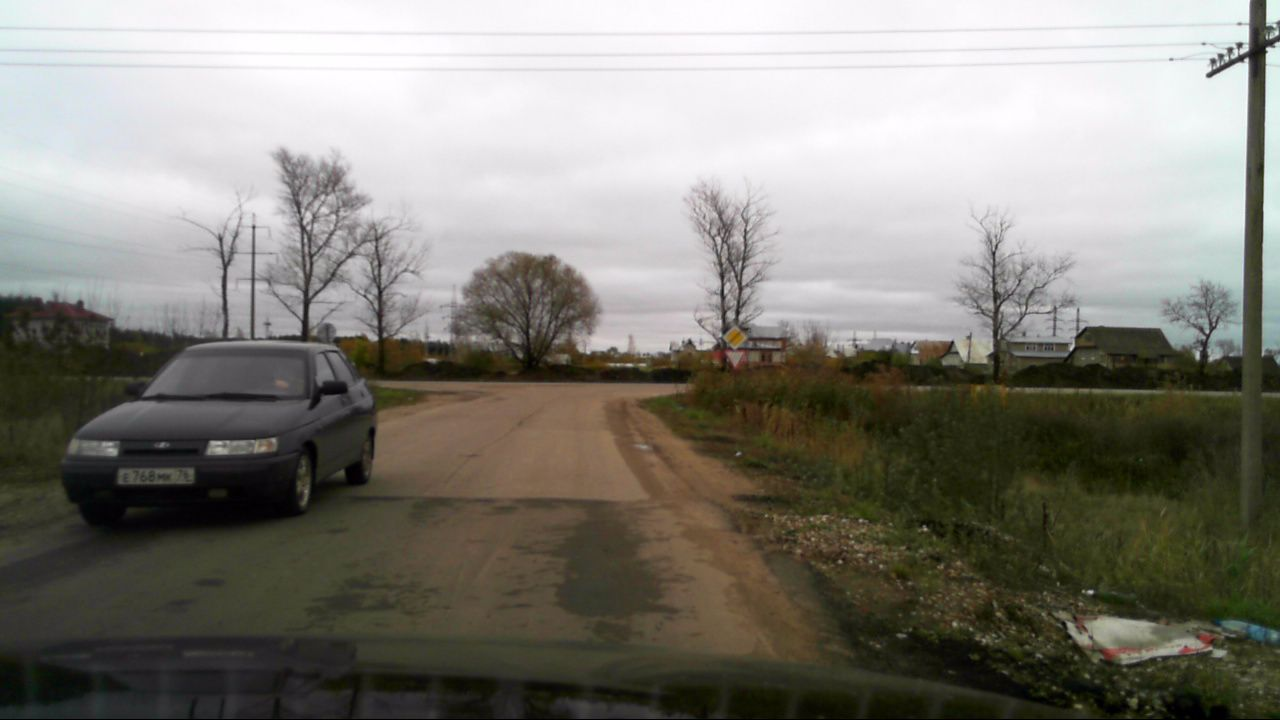main road: (721, 326, 747, 350)
